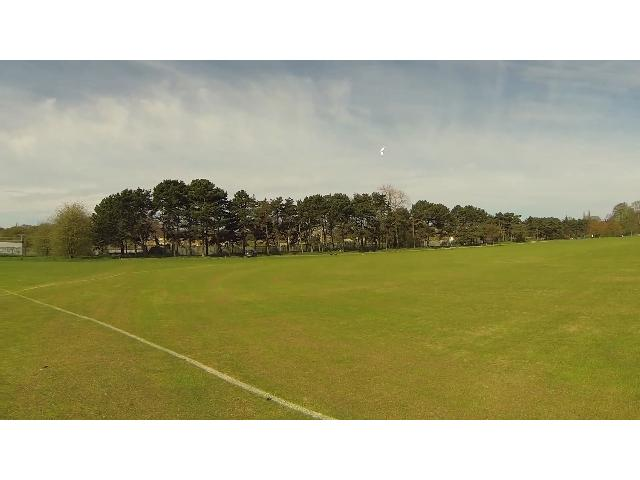Anti-Drone: (370, 139, 394, 164)
